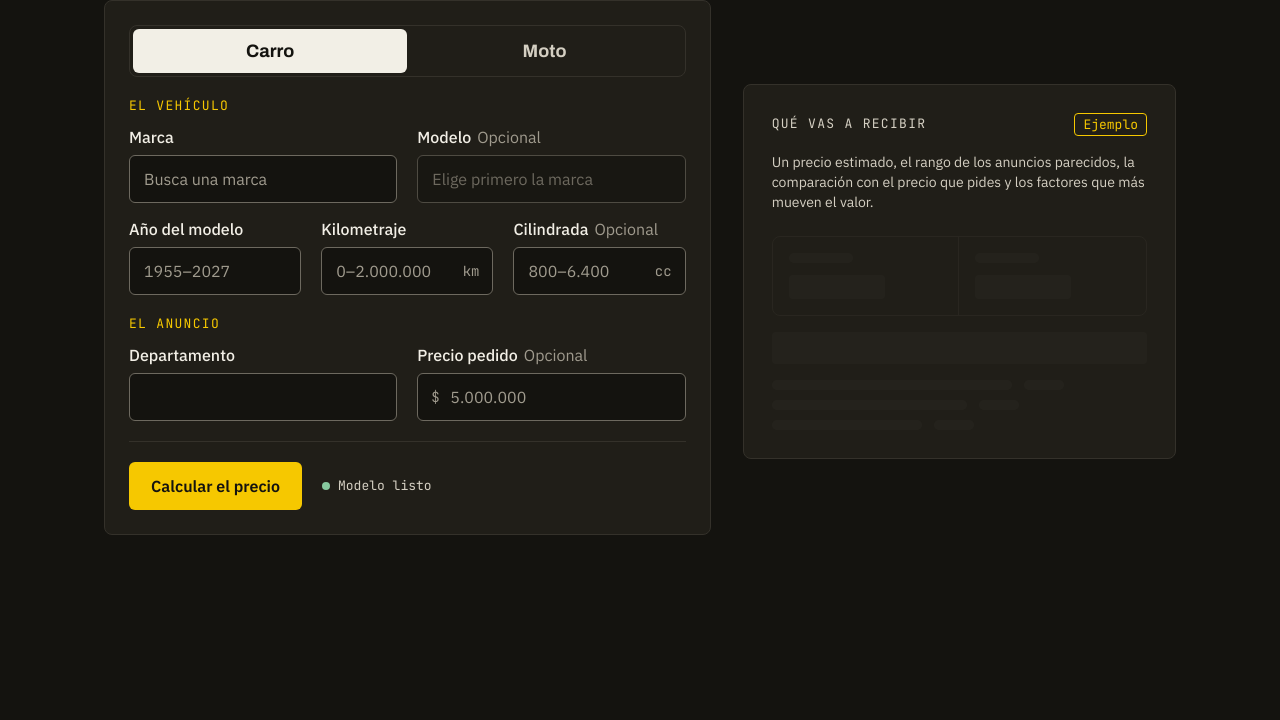
Test: the shareable link › writes the priced request into the address bar
expect the text "Modelo listo" is shown: met, box [322,477,432,496]
Step 1. Type "Toyota" into the dropdown labelled "Marca" → [263, 179], box [129,155,397,203]
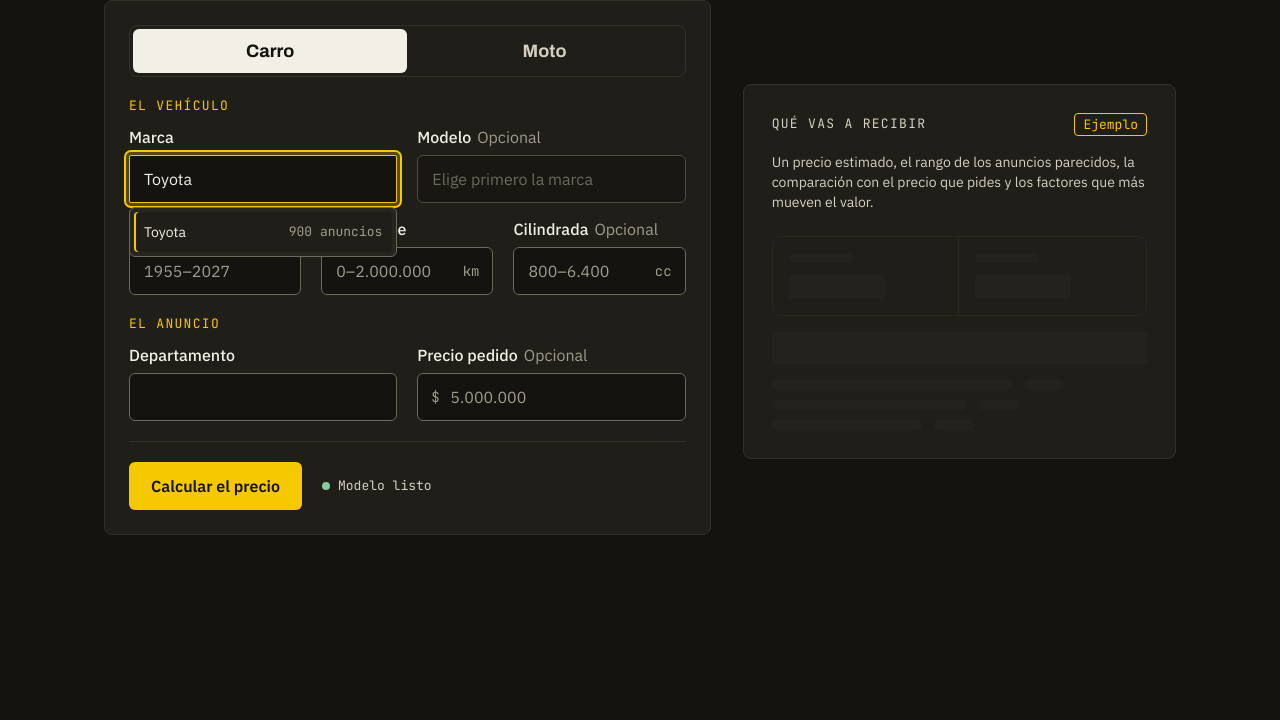
Step 2. Press the mouse on the option "Toyota 900 anuncios" → [263, 232], box [134,212,392,252]
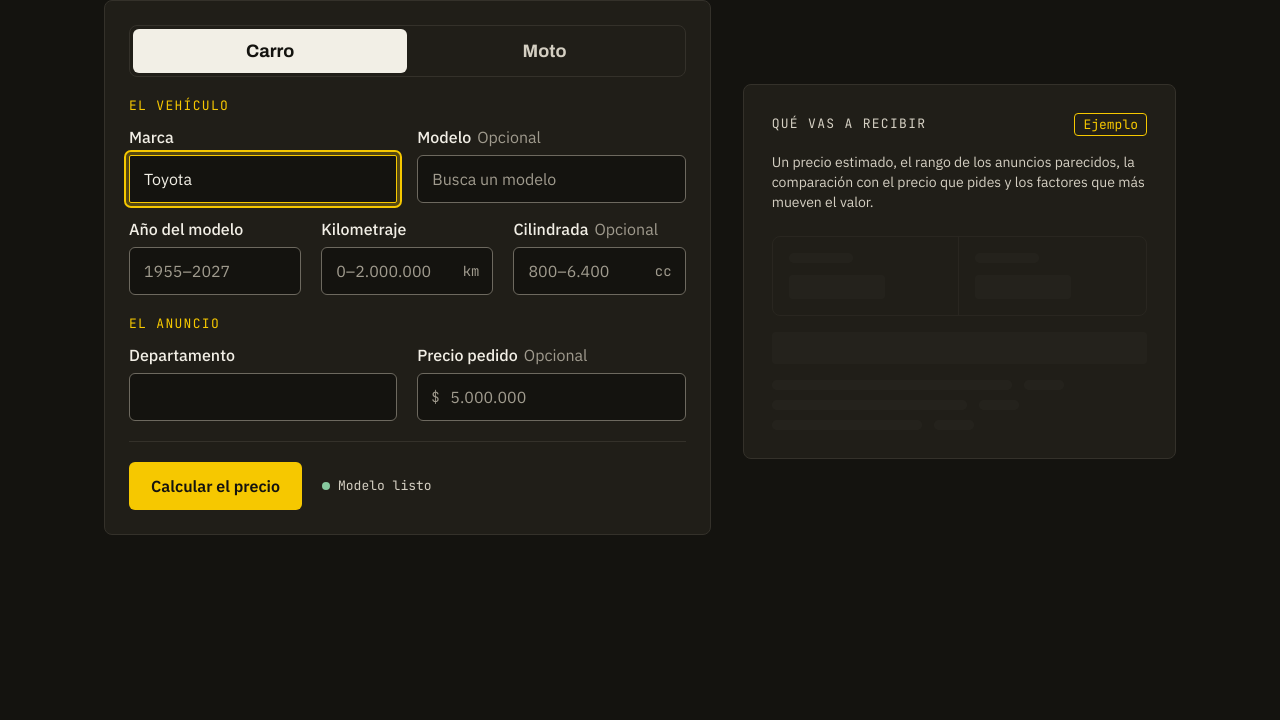
Step 3. Type "2018" into the field labelled "Año del modelo" → [215, 271], box [129,247,301,295]
Step 4. Type "60000" into the field labelled "Kilometraje" → [407, 271], box [321,247,493,295]
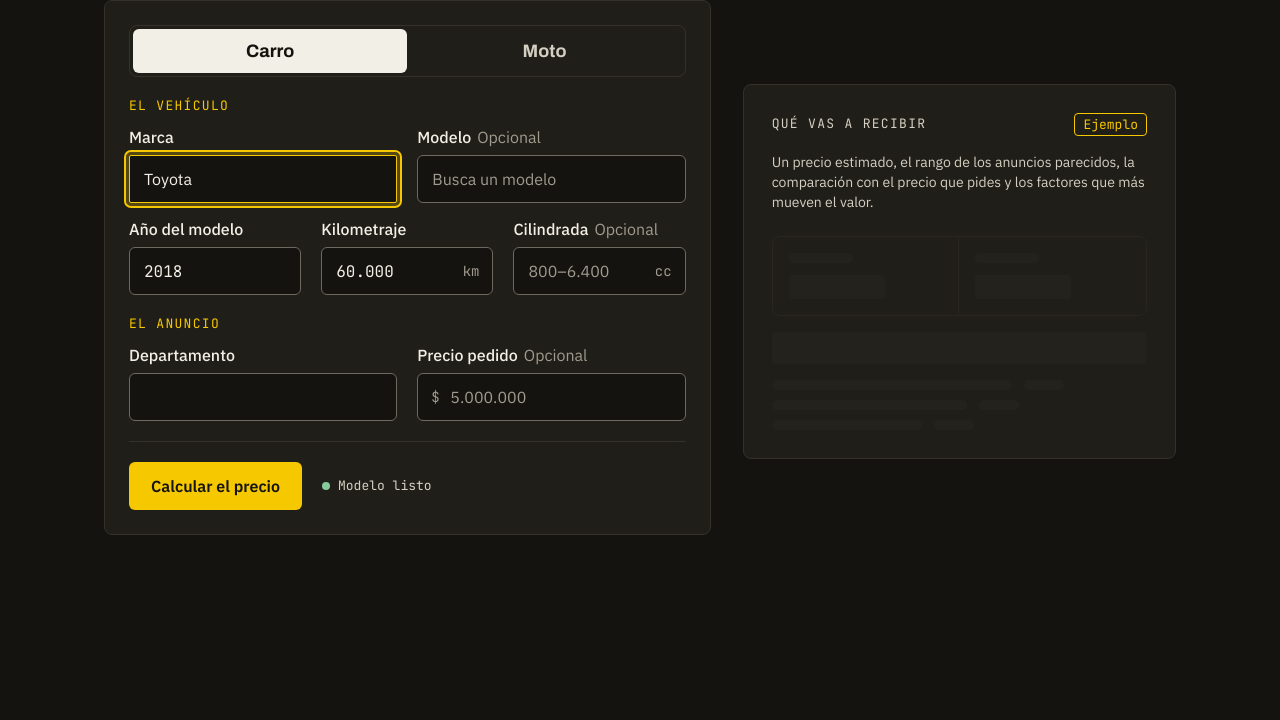
Step 5. Type "Bogot" into the dropdown labelled "Departamento" → [263, 397], box [129,373,397,421]
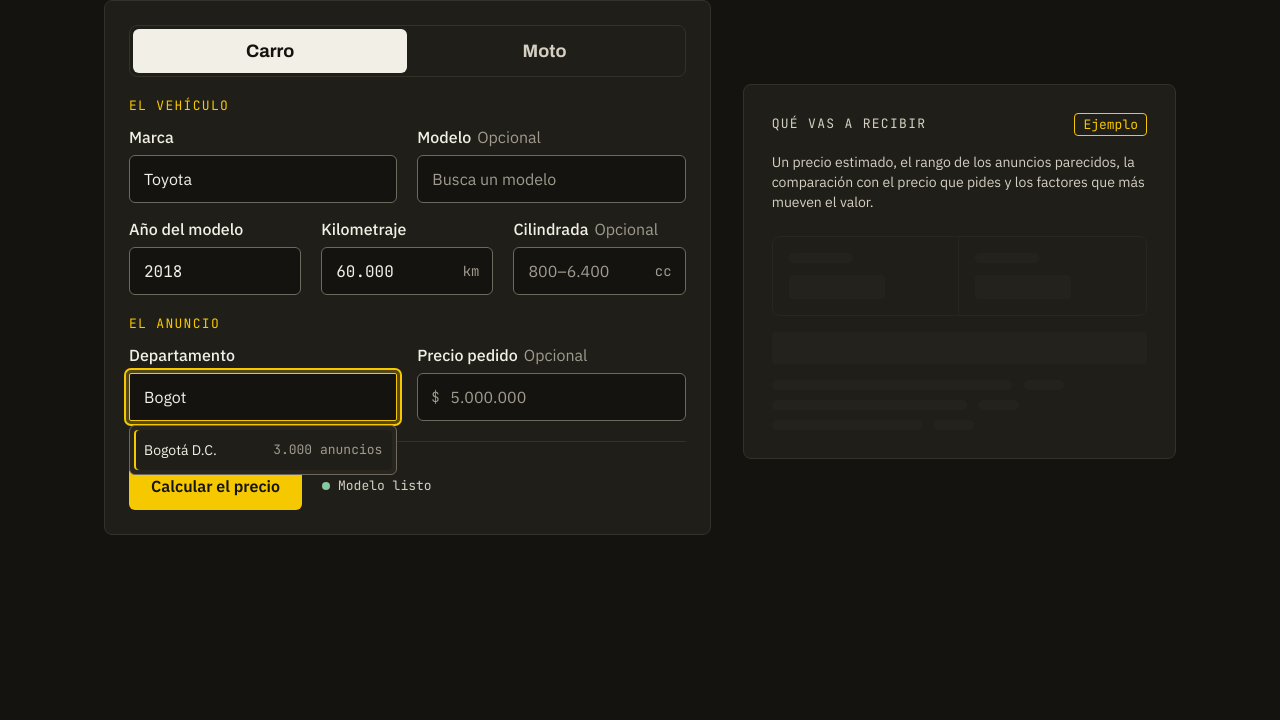
Step 6. Press the mouse on the option "Bogotá D.C. 3.000 anuncios" → [263, 450], box [134,430,392,470]
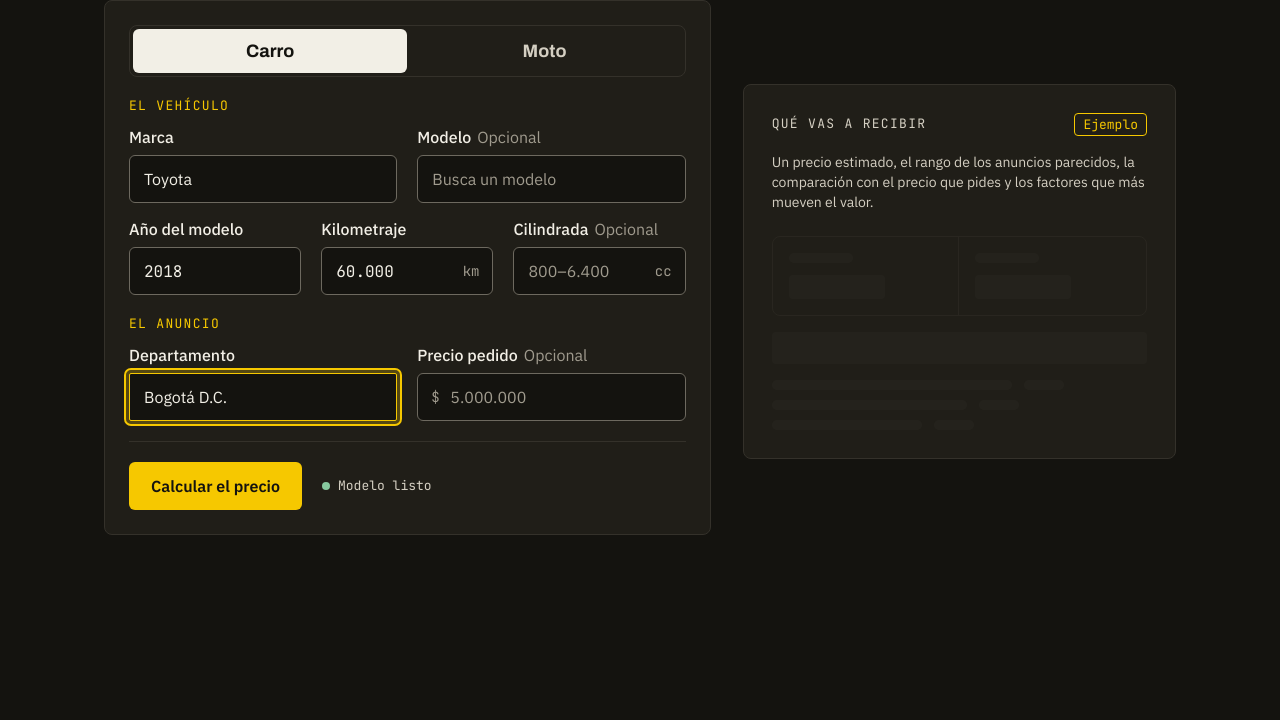
Step 7. Click the button "Calcular el precio" → [216, 486], box [129,462,302,510]
(page scrolled)
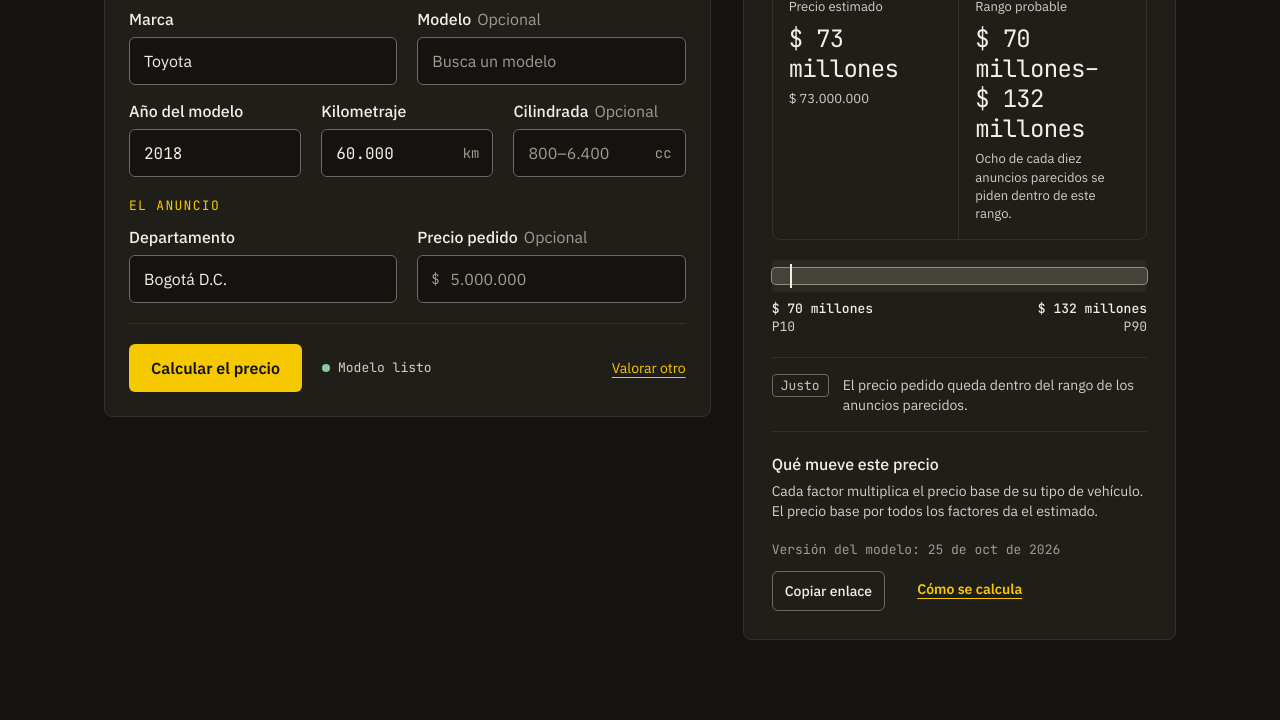
expect the button "Copiar enlace" is shown: met, box [772,571,885,611]
